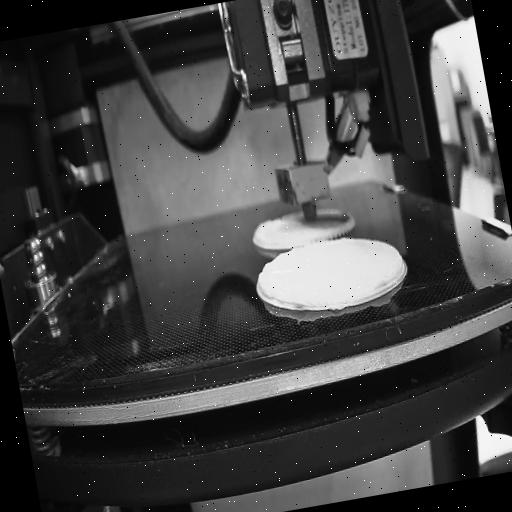over_extrusion: (370, 253, 410, 292), (253, 272, 271, 302)
